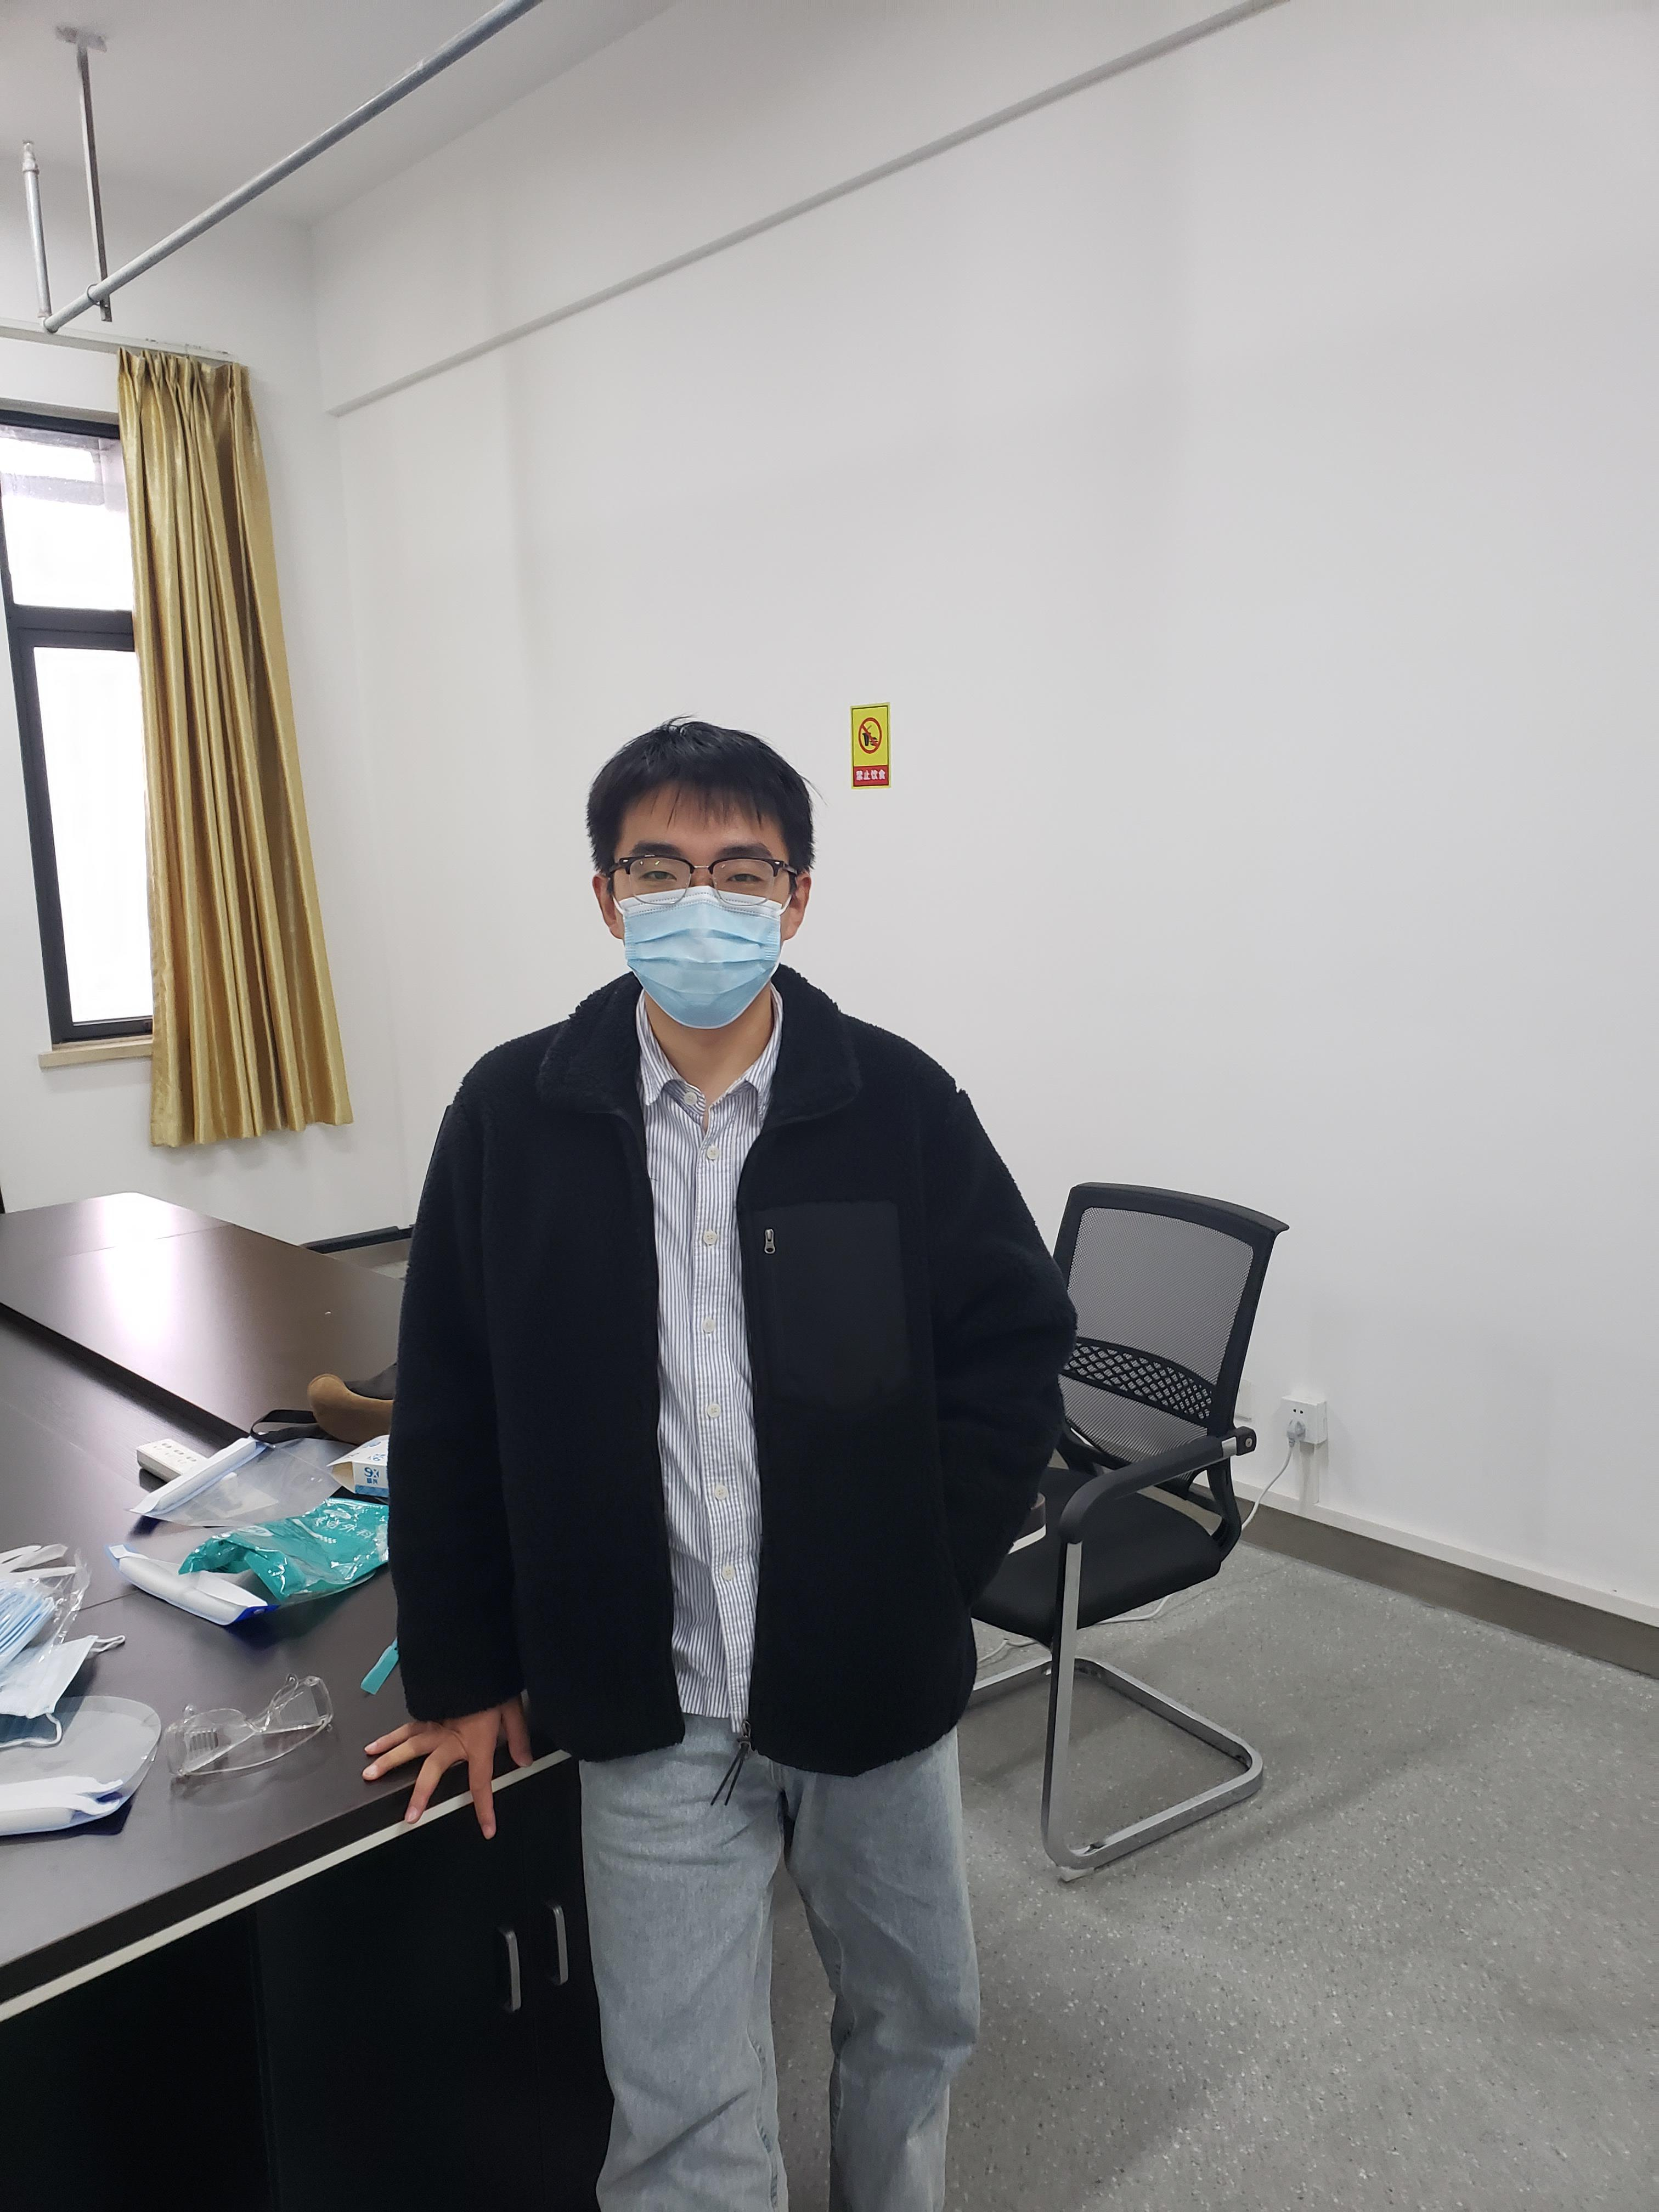Mask: (601, 888, 791, 1035)
